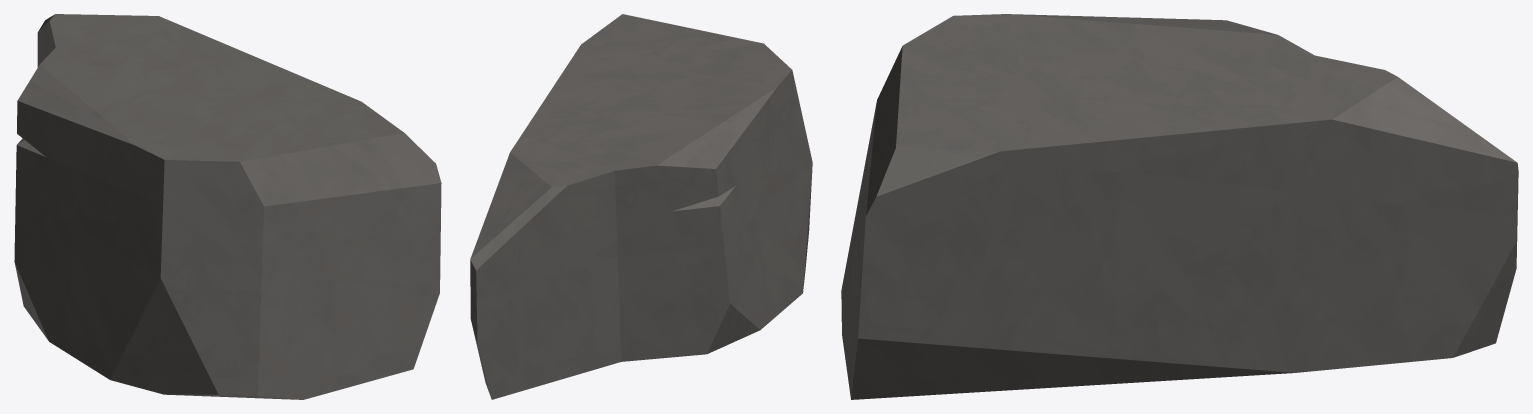
File: Boulder_27.fbx
The picture shows the model from 3 angles, left to right: view 1: azimuth 30°, elevation 25°; view 2: azimuth 150°, elevation 25°; view 3: azimuth 270°, elevation 25°; orthographic projection. The views are drawn at different scales.
Visible parts, largest first — view 1: Boulder_27; view 2: Boulder_27; view 3: Boulder_27.
Boxes of the visible parts, <box> form: Boulder_27: <box>14,14,441,399</box>; Boulder_27: <box>470,14,812,399</box>; Boulder_27: <box>841,14,1518,399</box>.
Bounding box in the file's own units: 759 × 592 × 1359.
